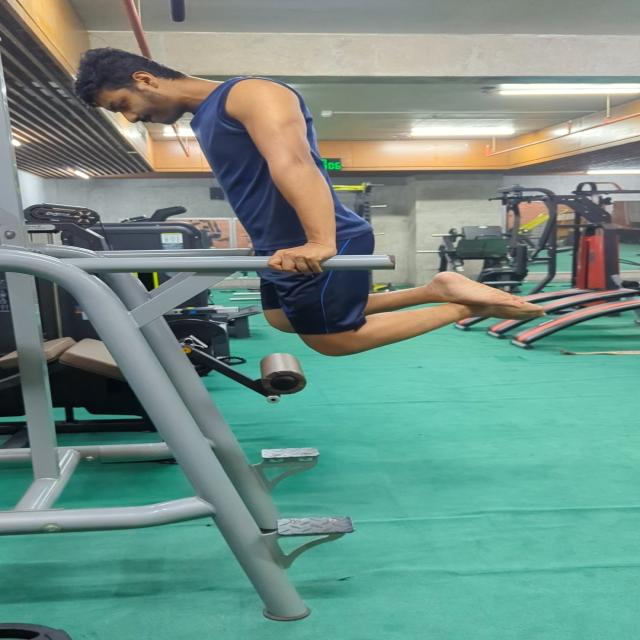Normal_Dips: (65, 42, 545, 365)
